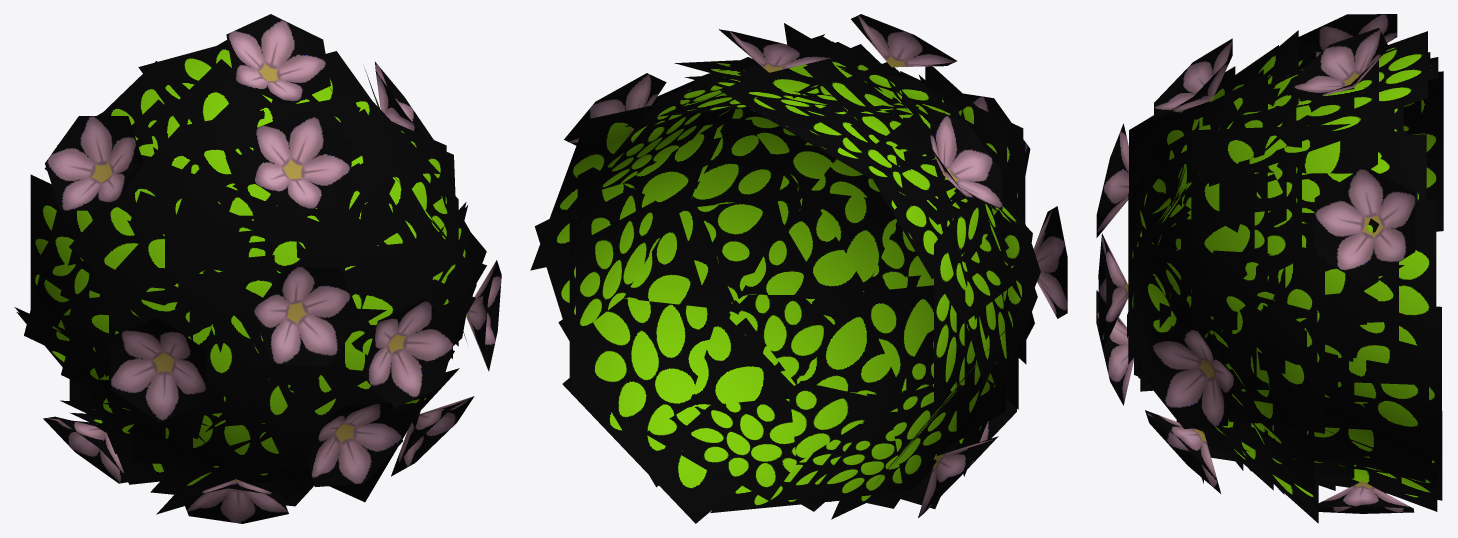
The model's file is Bush_Flowers.glb.
3 views of the same model, side by side, from view 1: azimuth 30°, elevation 25°; view 2: azimuth 150°, elevation 25°; view 3: azimuth 270°, elevation 25° (orthographic). The views are drawn at different scales.
Visible parts, largest first — view 1: Bush_Flowers; view 2: Bush_Flowers; view 3: Bush_Flowers.
Boxes of the visible parts, x1,y1,x2,y2 form: Bush_Flowers: [14, 14, 501, 523]; Bush_Flowers: [530, 14, 1067, 523]; Bush_Flowers: [1096, 14, 1443, 523].
Size of the model in its own units: 1.09 by 1.11 by 0.7585.
2 materials, 2 textured.
